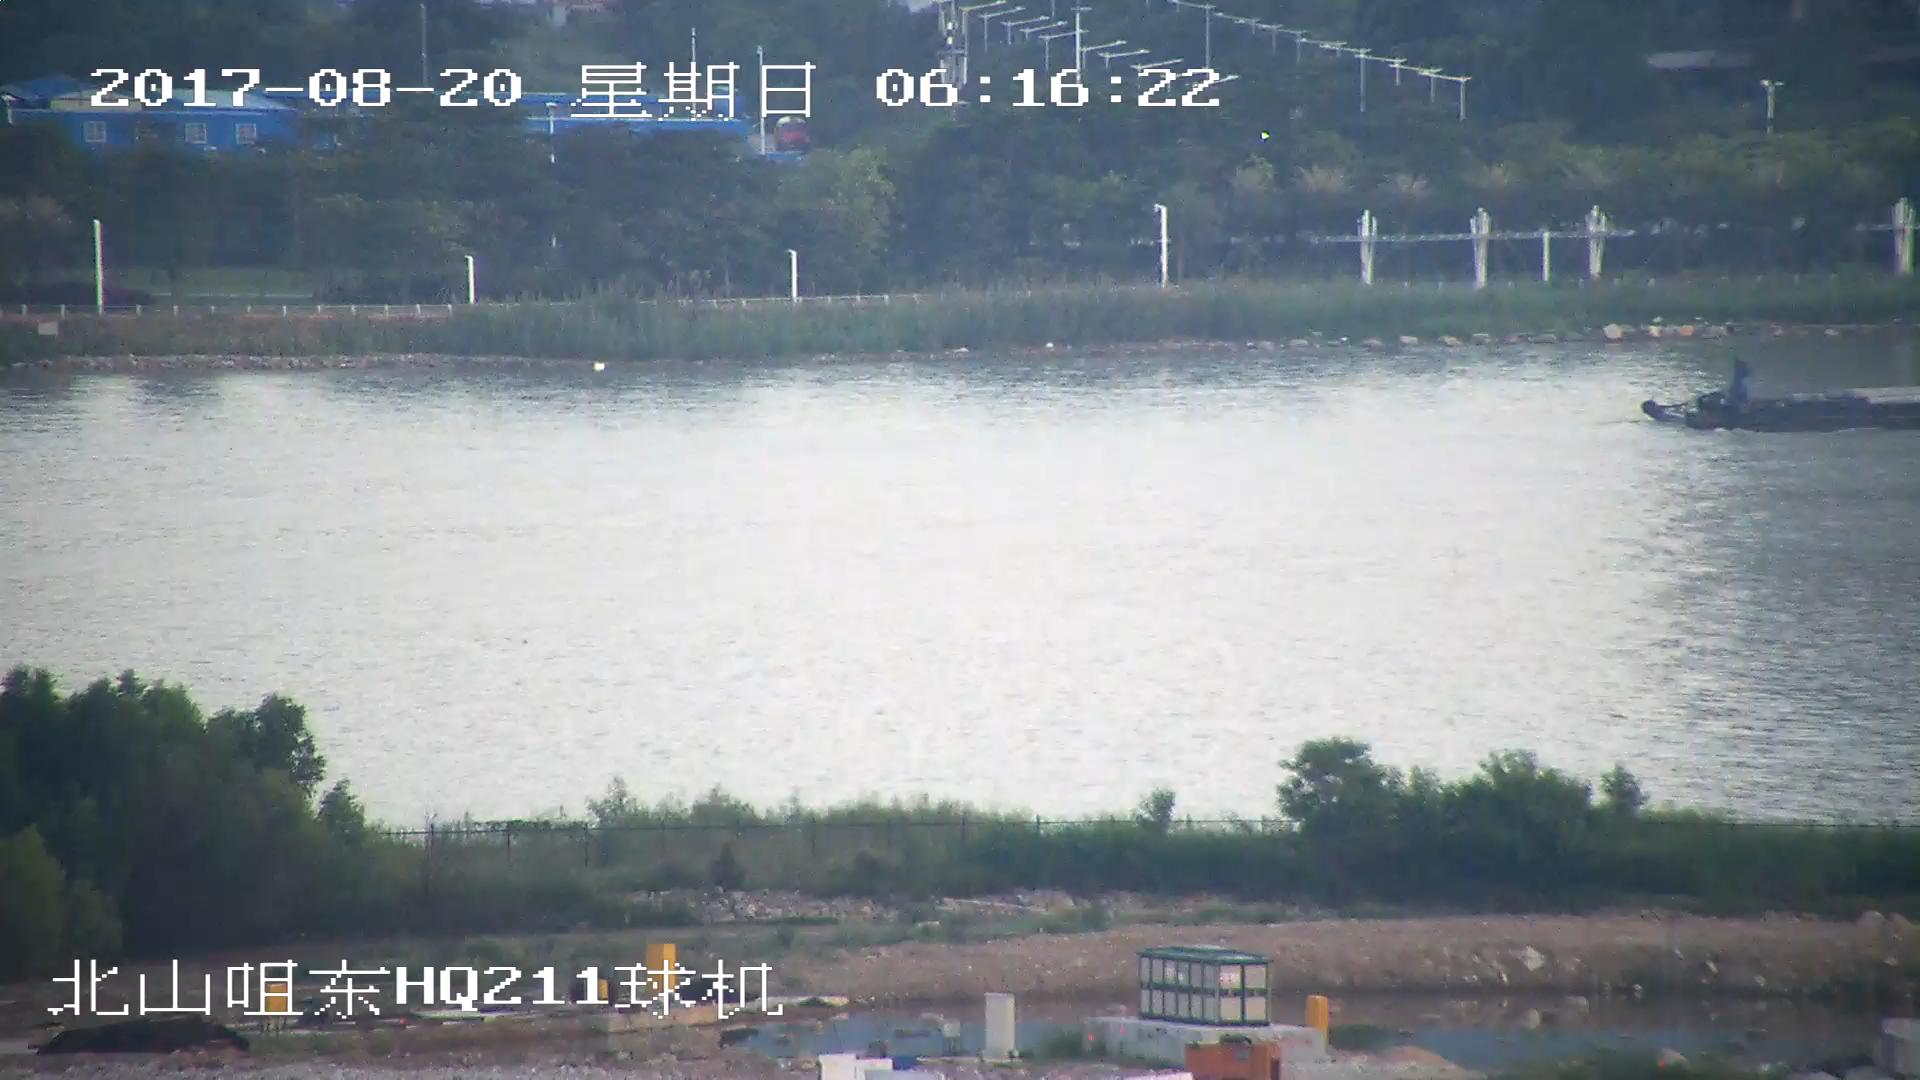bulk cargo carrier: (1650, 369, 1920, 429)
